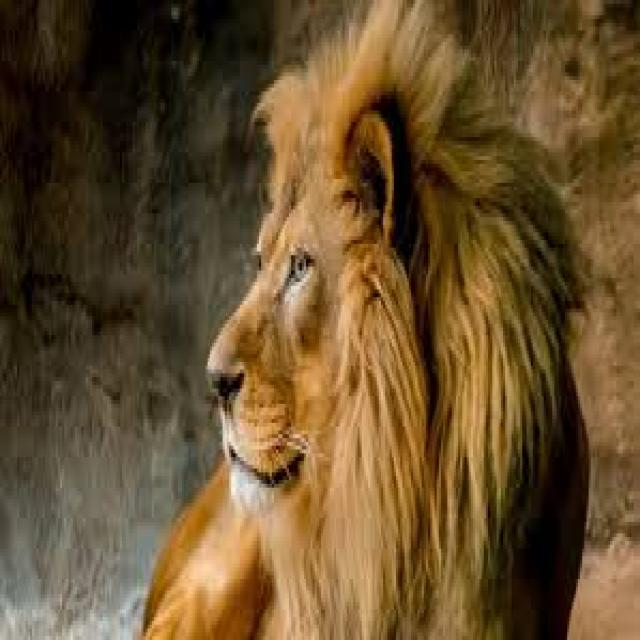Lion: (133, 6, 591, 636)
